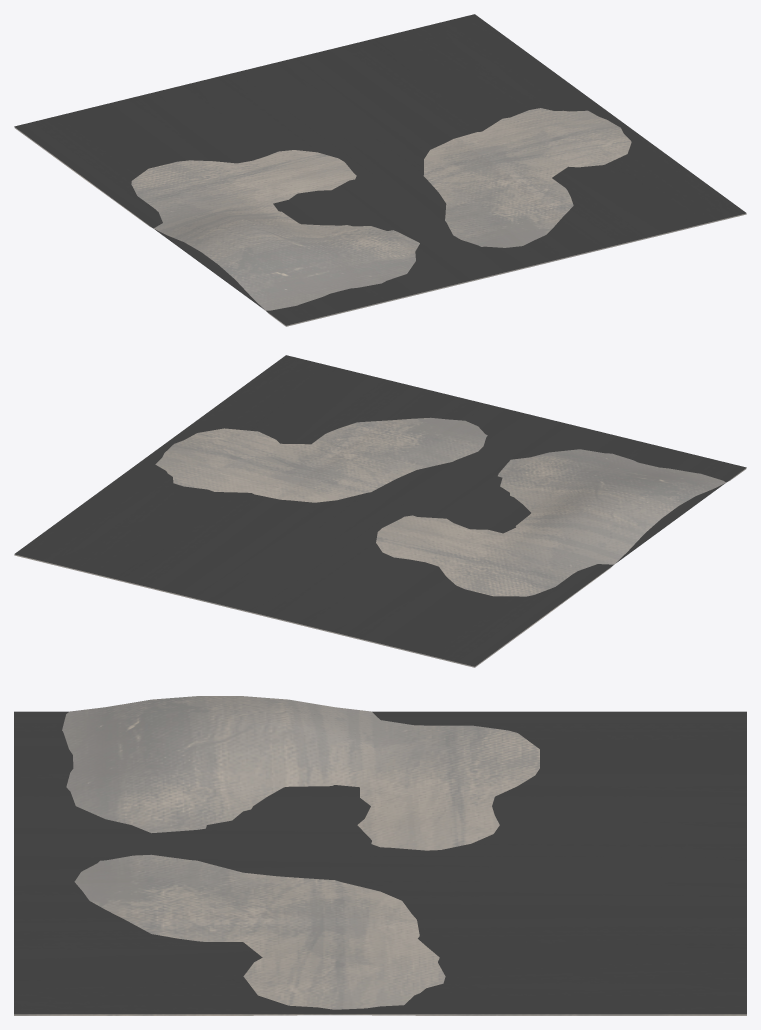
The model's file is Suelos_new.fbx.
3 views of the same model, one above another, from view 1: azimuth 30°, elevation 25°; view 2: azimuth 150°, elevation 25°; view 3: azimuth 270°, elevation 25° (orthographic). The views are drawn at different scales.
Parts seen in each view (by area): view 1: Plane008, Plane007; view 2: Plane008, Plane007; view 3: Plane008, Plane007.
Part boxes in pixels (left/top/right/bottom): Plane008: left=14, top=14, right=746, bottom=325; Plane007: left=14, top=108, right=746, bottom=326; Plane008: left=14, top=355, right=746, bottom=666; Plane007: left=14, top=417, right=746, bottom=667; Plane008: left=14, top=711, right=746, bottom=1014; Plane007: left=14, top=696, right=746, bottom=1015.
Bounding box in the file's own units: 27952 × 1198 × 28589.
Materials: 2 (2 with a texture image).
